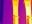Hotspot: (12, 0, 19, 23), (24, 0, 31, 23)
